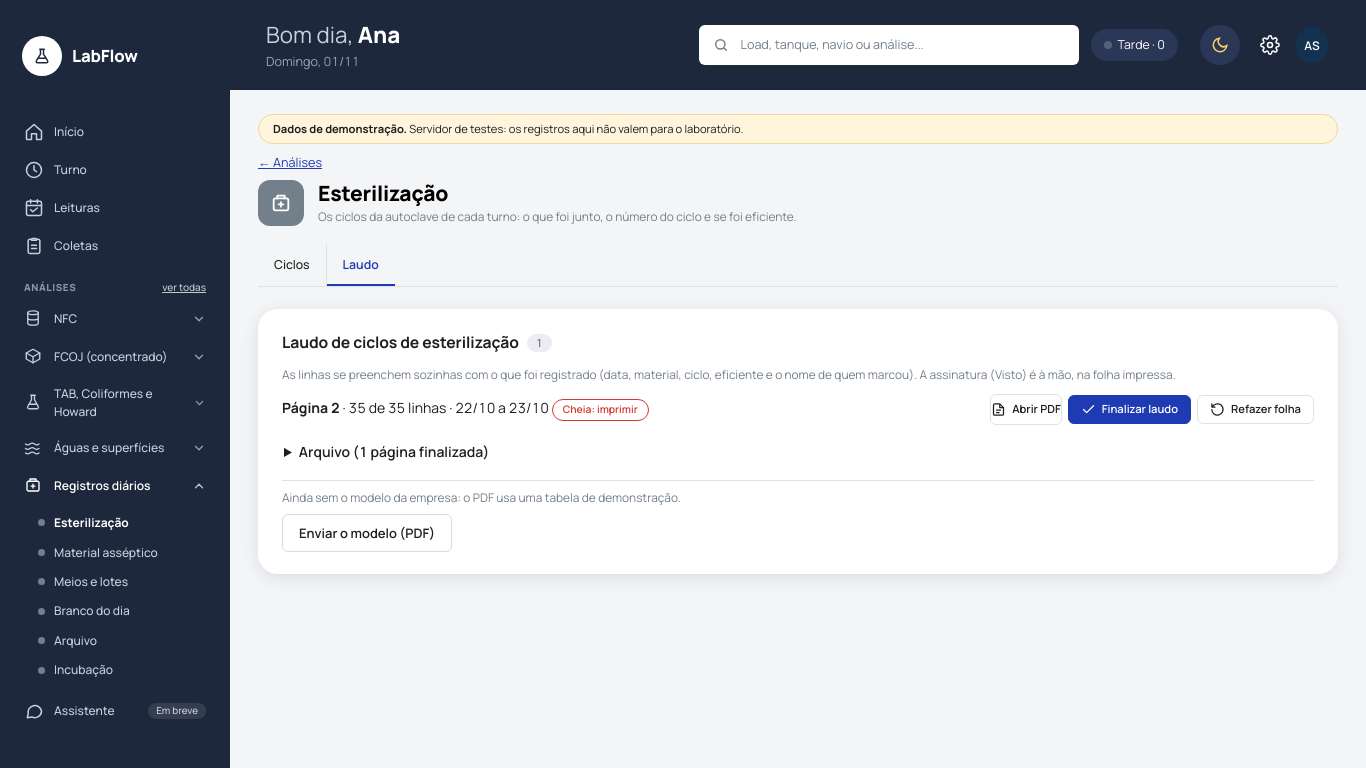
Laudo de esterilização (APP-035) › Finalizar laudo manda a página para o arquivo (27/10)
This screenshot has width=1366, height=768.
Click the button with aria-label "Finalizar o laudo da página 2" at (1129, 409), box top-left (1068, 395), bottom-right (1191, 424)
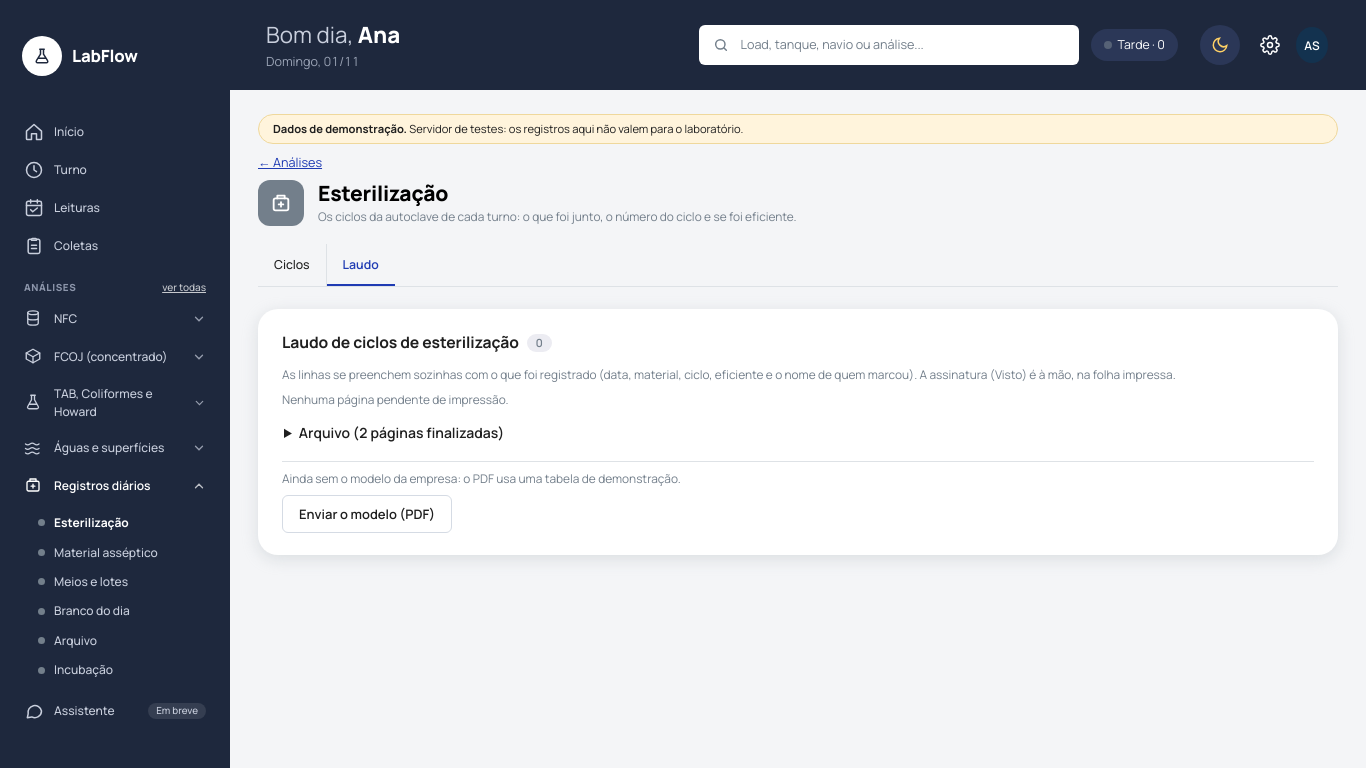
Result: the text "Nenhuma página pendente de impressão." is shown at top-left (282, 391), bottom-right (508, 408)
